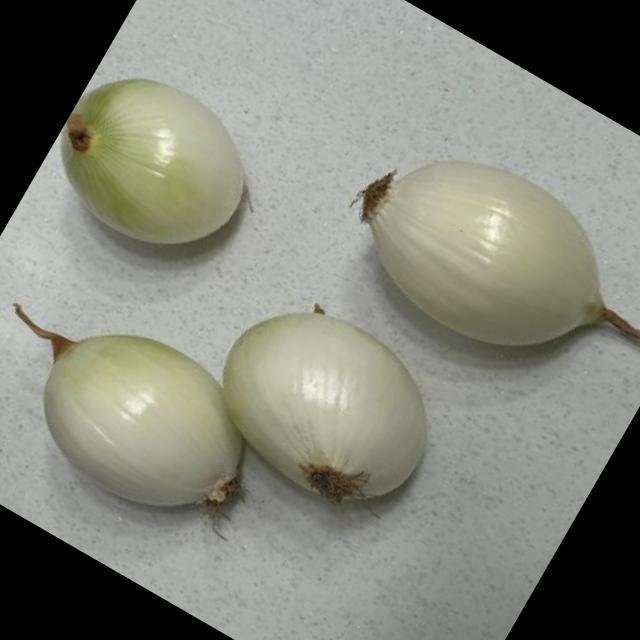Onion: (362, 156, 640, 350), (225, 309, 428, 502), (42, 332, 244, 510), (60, 80, 243, 250)
